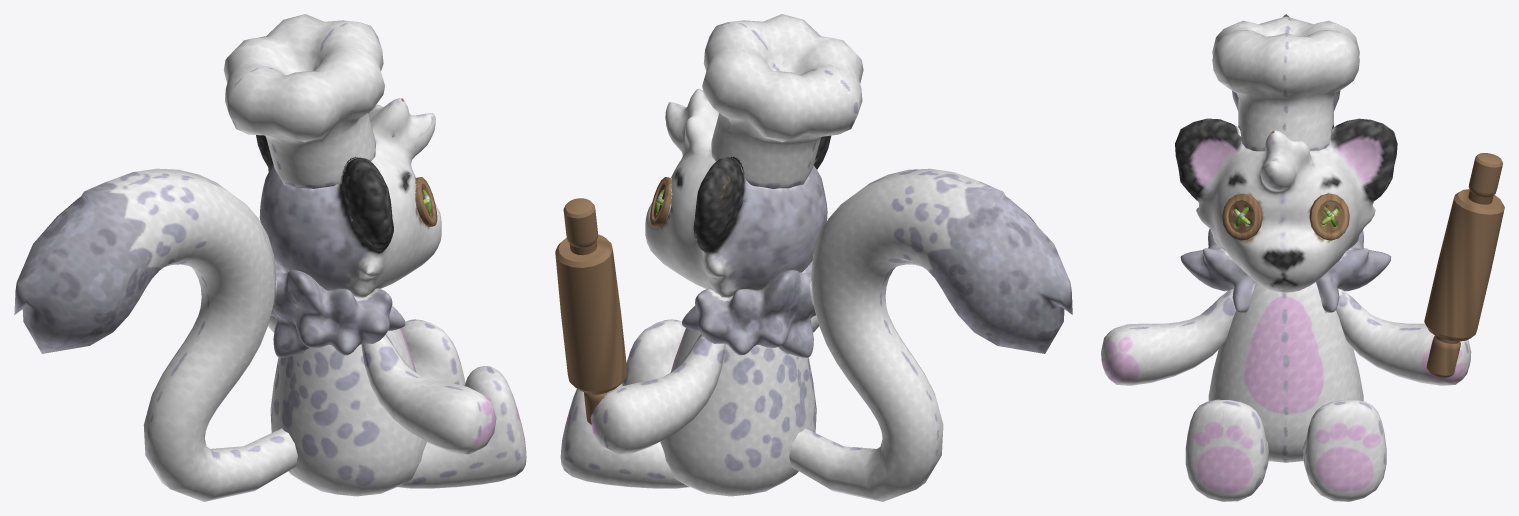
File: ZyyphPlush.fbx
3 views of the same model, side by side, from view 1: azimuth 30°, elevation 25°; view 2: azimuth 150°, elevation 25°; view 3: azimuth 270°, elevation 25° (orthographic). The views are drawn at different scales.
Visible parts, largest first — view 1: Cube.002; view 2: Cube.002; view 3: Cube.002.
Boxes of the visible parts, x1,y1,x2,y2 form: Cube.002: (14, 14, 526, 501); Cube.002: (555, 14, 1072, 501); Cube.002: (1101, 14, 1504, 501).
Size of the model in its own units: 277 by 256 by 227.
Materials: 1 (1 with a texture image).
